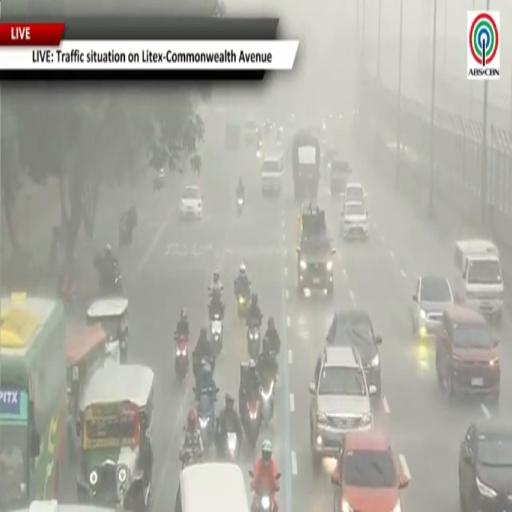car: (309, 346, 376, 470), (436, 303, 500, 404), (331, 429, 408, 511), (327, 310, 381, 398), (459, 420, 511, 511), (412, 275, 454, 340), (342, 201, 368, 238), (180, 186, 202, 219), (342, 183, 366, 203), (243, 119, 258, 145)
jeepney: (77, 360, 154, 511), (66, 325, 110, 455), (87, 297, 128, 363), (17, 500, 112, 511)
motorcycle: (94, 256, 122, 295), (197, 394, 215, 450), (243, 397, 261, 446), (260, 372, 275, 424), (175, 334, 189, 381), (210, 313, 223, 356), (208, 287, 224, 321), (193, 356, 215, 378), (247, 326, 261, 360), (224, 431, 239, 462), (252, 491, 275, 511), (180, 450, 200, 469), (238, 294, 248, 319), (237, 197, 244, 215)
truck: (0, 294, 67, 509), (455, 239, 504, 323), (297, 205, 335, 296), (291, 130, 320, 201), (261, 155, 283, 195)
